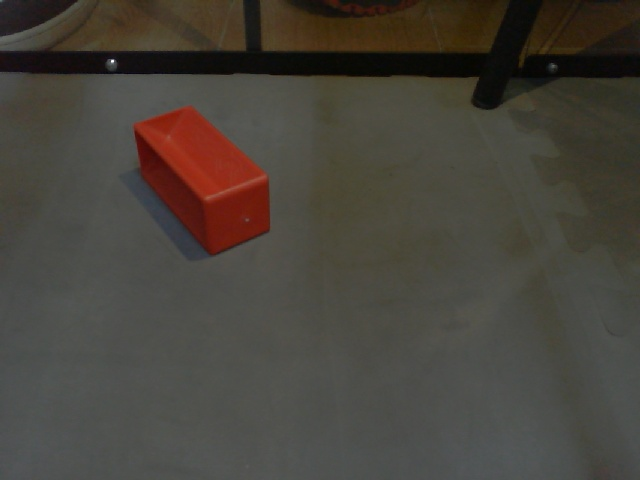RedSample: (129, 103, 276, 257)
